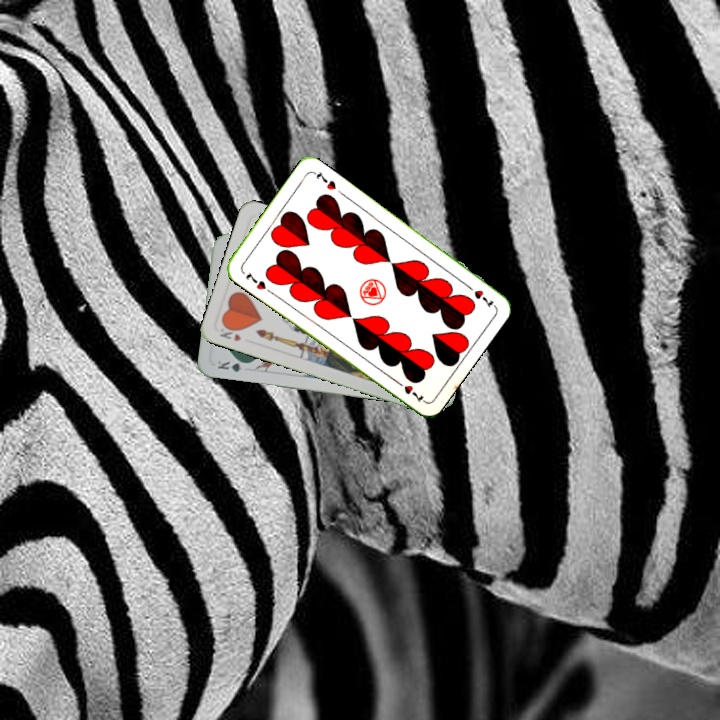GK: (213, 356, 253, 374)
H7: (462, 280, 497, 310), (241, 268, 268, 292)
HK: (215, 321, 244, 344)
